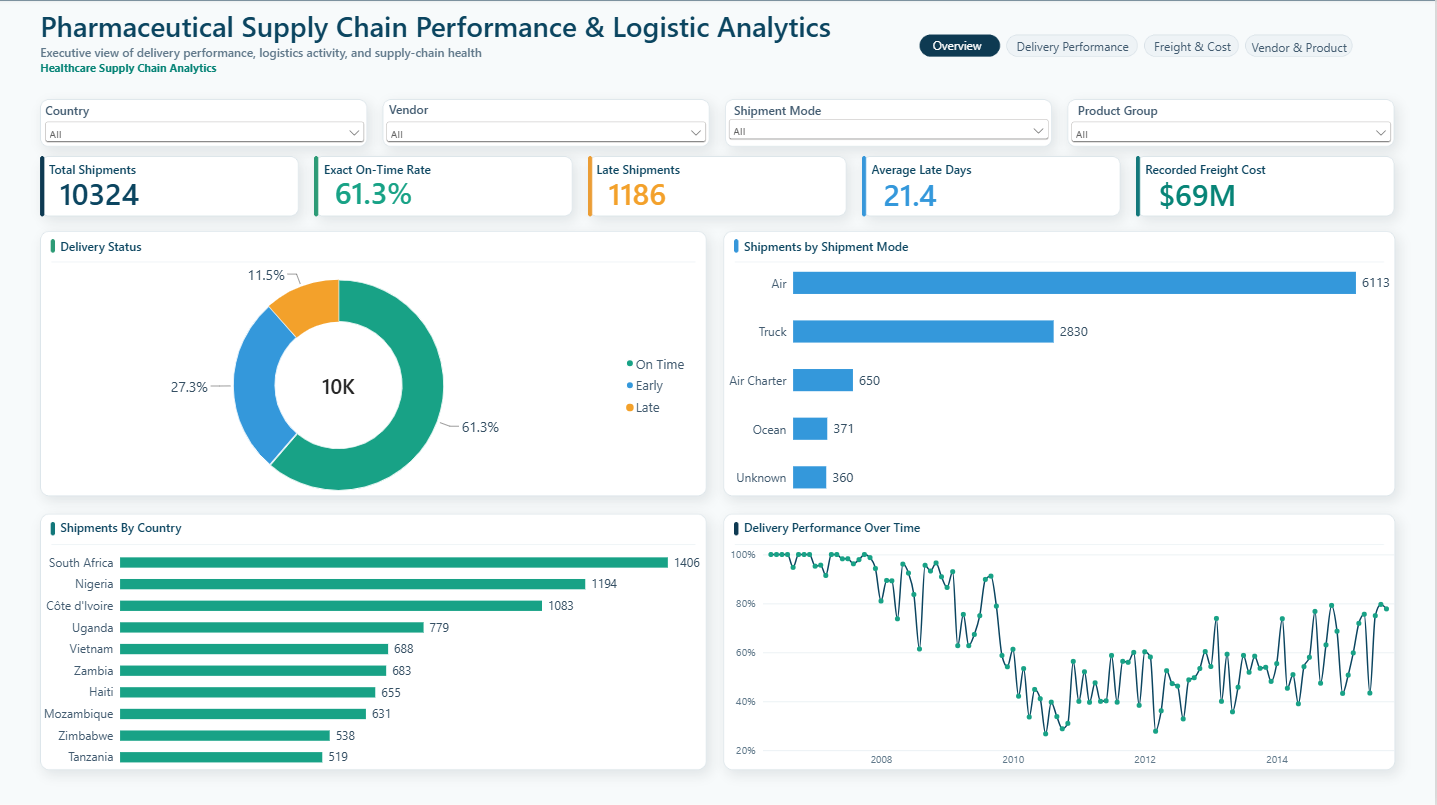

The page's visual inventory and layout, read from the dashboard file:
{"tool":"powerbi","page":{"name":"Executive Overview","canvas":[1920,1080],"ordinal":0},"visuals":[{"type":"textbox","box":[55,12.5,1110,100],"z":0},{"type":"textbox","box":[1247.8,52.2,102.2,36.7],"z":1000},{"type":"textbox","box":[1542.8,53.3,111.1,36.7],"z":2000},{"type":"textbox","box":[1673.3,54.4,138.9,36.7],"z":3000},{"type":"textbox","box":[1358.9,53.3,164.4,36.7],"z":4000},{"type":"textbox","box":[61.5,139.2,78.5,29.2],"z":5000},{"type":"slicer","fields":{"Values":["Shipments.country"]},"box":[56,160,436,46],"z":6000},{"type":"textbox","box":[521.4,137.1,78.5,29.2],"z":7000},{"type":"slicer","fields":{"Values":["Shipments.vendor"]},"box":[512,160,436.7,46],"z":8000},{"type":"textbox","box":[1441.1,137.8,120,28.9],"z":9000},{"type":"textbox","box":[981.1,138.9,143.3,28.9],"z":10000},{"type":"slicer","fields":{"Values":["Shipments.shipment_mode"]},"box":[970,156.7,436.7,49.3],"z":11000},{"type":"slicer","fields":{"Values":["Shipments.product_group"]},"box":[1428,160,436.7,46],"z":12000},{"type":"textbox","box":[66.7,216.7,150,23.3],"z":13000},{"type":"cardVisual","fields":{"Data":["Shipments.Total Shipments"]},"box":[65,235,208.3,51.7],"z":14000},{"type":"textbox","box":[433.3,216.7,150,23.3],"z":15000},{"type":"textbox","box":[798.3,216.7,151.7,25],"z":16000},{"type":"textbox","box":[1165,216.7,151.7,23.3],"z":17000},{"type":"textbox","box":[1532,217,170,23],"z":18000},{"type":"textbox","box":[81.8,320,134.5,29.1],"z":19000},{"type":"cardVisual","fields":{"Data":["Shipments.On-Time Rate"]},"box":[431.9,234.5,209.1,51.8],"z":20000},{"type":"cardVisual","fields":{"Data":["Shipments.Late Shipments"]},"box":[798.9,234.4,208.9,52.2],"z":21000},{"type":"cardVisual","fields":{"Data":["Shipments.Average Late Days"]},"box":[1165.6,235,209,52],"z":22000},{"type":"cardVisual","fields":{"Data":["Shipments.Recorded Freight Cost"]},"box":[1532.5,235,232.5,52.5],"z":23000},{"type":"donutChart","fields":{"Category":["Shipments.delivery_status"],"Y":["Shipments.Total Shipments"]},"box":[55.7,320,885.7,394.3],"z":24000},{"type":"textbox","box":[996,321,252,29],"z":25000},{"type":"clusteredBarChart","fields":{"Category":["Shipments.shipment_mode"],"Y":["Shipments.Total Shipments"]},"box":[951.4,320,922.9,375.7],"z":26000},{"type":"textbox","box":[81.7,696.7,191.7,30],"z":27000},{"type":"clusteredBarChart","fields":{"Category":["Shipments.country"],"Y":["Shipments.Total Shipments"]},"box":[37.1,714.3,915.7,332.9],"z":28000},{"type":"textbox","box":[995.6,696.7,265.6,28.9],"z":29000},{"type":"lineChart","fields":{"Category":["Shipments.scheduled_delivery_date.Variation.Date Hierarchy.Year","Shipments.scheduled_delivery_date.Variation.Date Hierarchy.Month"],"Y":["Shipments.On-Time Rate"]},"box":[960,714.3,924.3,332.9],"z":30000}]}

Visuals, with their boxes in screenshot pixels (x1, y1, x2, y2), scaled from the page's 1920x1080 canvas onto the 1437x805 screenshot:
textbox: BBox(41, 9, 872, 84)
textbox: BBox(934, 39, 1010, 66)
textbox: BBox(1155, 40, 1238, 67)
textbox: BBox(1252, 41, 1356, 68)
textbox: BBox(1017, 40, 1140, 67)
textbox: BBox(46, 104, 105, 126)
slicer - Shipments.country: BBox(42, 119, 368, 154)
textbox: BBox(390, 102, 449, 124)
slicer - Shipments.vendor: BBox(383, 119, 710, 154)
textbox: BBox(1079, 103, 1168, 124)
textbox: BBox(734, 104, 842, 125)
slicer - Shipments.shipment_mode: BBox(726, 117, 1053, 154)
slicer - Shipments.product_group: BBox(1069, 119, 1396, 154)
textbox: BBox(50, 162, 162, 179)
cardVisual - Shipments.Total Shipments: BBox(49, 175, 205, 214)
textbox: BBox(324, 162, 437, 179)
textbox: BBox(597, 162, 711, 180)
textbox: BBox(872, 162, 985, 179)
textbox: BBox(1147, 162, 1274, 179)
textbox: BBox(61, 239, 162, 260)
cardVisual - Shipments.On-Time Rate: BBox(323, 175, 480, 213)
cardVisual - Shipments.Late Shipments: BBox(598, 175, 754, 214)
cardVisual - Shipments.Average Late Days: BBox(872, 175, 1029, 214)
cardVisual - Shipments.Recorded Freight Cost: BBox(1147, 175, 1321, 214)
donutChart - Shipments.delivery_status x Shipments.Total Shipments: BBox(42, 239, 705, 532)
textbox: BBox(745, 239, 934, 261)
clusteredBarChart - Shipments.shipment_mode x Shipments.Total Shipments: BBox(712, 239, 1403, 519)
textbox: BBox(61, 519, 205, 542)
clusteredBarChart - Shipments.country x Shipments.Total Shipments: BBox(28, 532, 713, 781)
textbox: BBox(745, 519, 944, 541)
lineChart - Shipments.scheduled_delivery_date.Variation.Date Hierarchy.Year x Shipments.scheduled_delivery_date.Variation.Date Hierarchy.Month: BBox(718, 532, 1410, 781)
